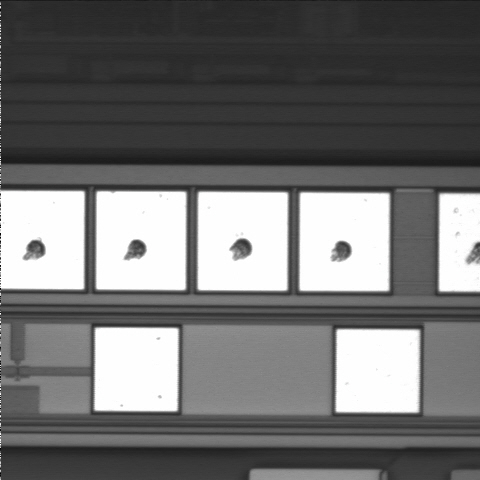pad: (96, 191, 186, 290), (198, 192, 288, 291), (300, 193, 389, 291), (95, 328, 178, 411), (336, 329, 419, 412)
